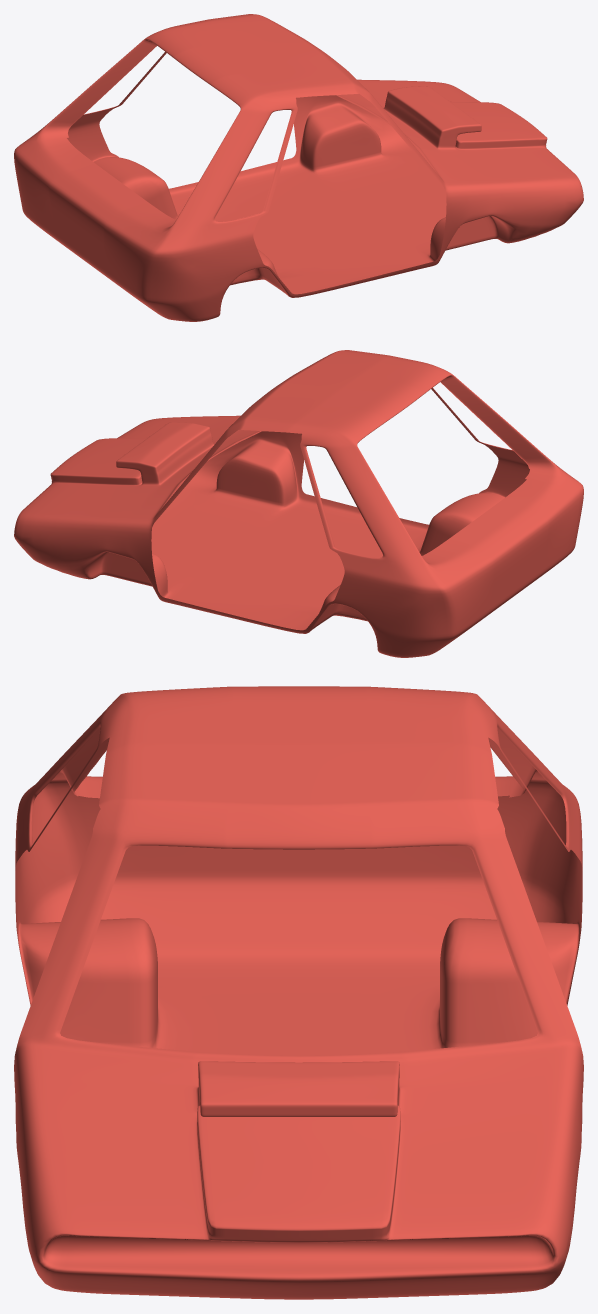
Rendered from cube.037_mobile_0_lev1.glb.
3 views of the same model, one above another, from view 1: azimuth 30°, elevation 25°; view 2: azimuth 150°, elevation 25°; view 3: azimuth 270°, elevation 25° (orthographic). The views are drawn at different scales.
Parts seen in each view (by area): view 1: cube.037_mobile_0_lev1; view 2: cube.037_mobile_0_lev1; view 3: cube.037_mobile_0_lev1.
Part boxes in pixels (<box>): cube.037_mobile_0_lev1: <box>14,14,583,321</box>; cube.037_mobile_0_lev1: <box>14,350,583,657</box>; cube.037_mobile_0_lev1: <box>14,686,583,1299</box>.
Size of the model in its own units: 0.4098 by 0.1678 by 0.244.
